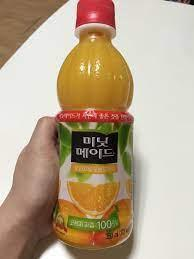minutemaid_org_orange: (50, 0, 138, 250)
